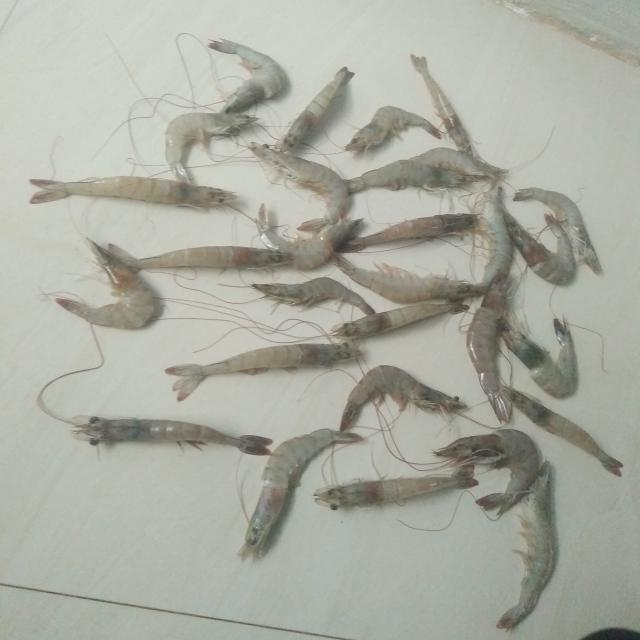shrimp: (239, 429, 362, 560), (165, 343, 362, 402), (504, 387, 624, 477), (497, 462, 556, 631), (55, 238, 156, 329), (435, 430, 540, 516), (251, 142, 350, 231), (340, 366, 467, 431), (71, 416, 272, 456), (332, 253, 487, 303), (514, 187, 603, 274), (256, 204, 362, 270), (467, 273, 512, 423), (275, 66, 354, 151), (165, 112, 258, 183), (411, 53, 475, 155), (29, 176, 236, 207), (501, 318, 579, 399), (108, 243, 291, 275), (208, 39, 287, 112), (314, 473, 478, 507), (338, 213, 478, 252), (505, 210, 576, 284), (332, 303, 469, 338), (251, 277, 375, 315), (345, 105, 442, 151), (348, 159, 470, 193), (481, 182, 514, 289), (409, 146, 510, 177)
